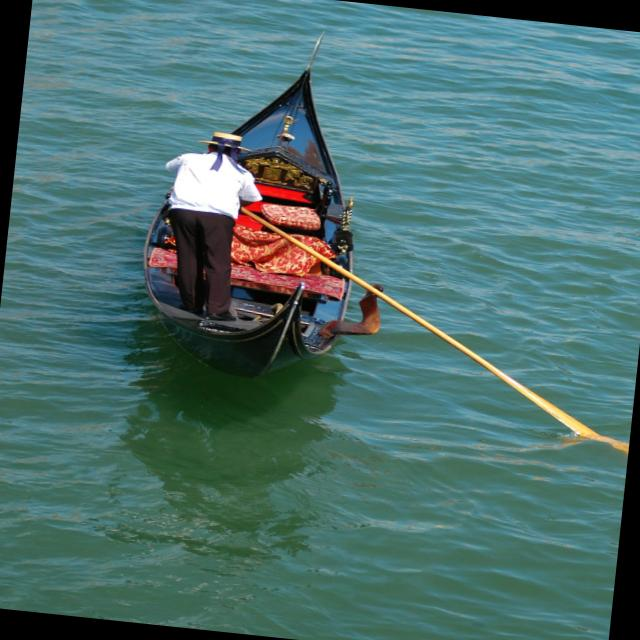boat: (120, 7, 396, 421)
